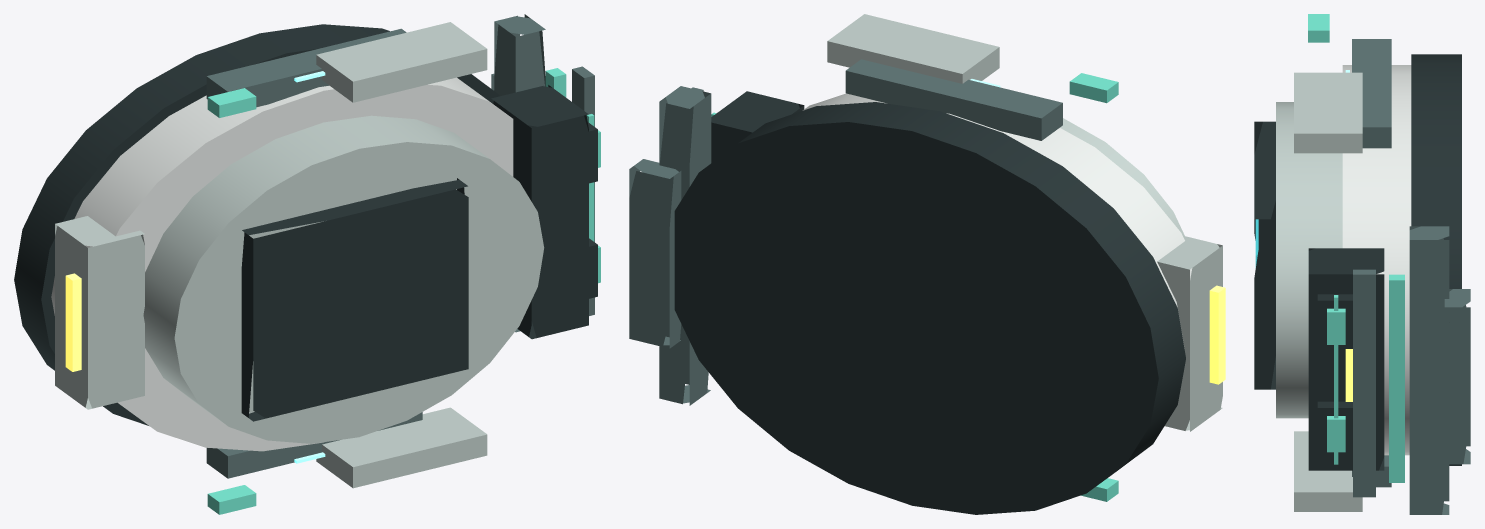
File: chassis.glb
3 renders of one model, left to right at view 1: azimuth 30°, elevation 25°; view 2: azimuth 150°, elevation 25°; view 3: azimuth 270°, elevation 25°, orthographic. The views are drawn at different scales.
Parts seen in each view (by area): view 1: upper_hull, top_deck, lower_hull, lower_skirt, face_panel, rear_service, shoulder_left, shoulder_right, side_rail_left, front_bumper, side_rail_right, rear_status (+3 smaller); view 2: lower_skirt, front_chin, side_rail_left, rear_service, shoulder_left, front_bumper, lower_hull, face_panel, rear_status, upper_hull, service_latch_left; view 3: upper_hull, lower_hull, front_bumper, lower_skirt, face_panel, top_deck, shoulder_left, ro1_front_skid, front_chin, side_rail_left, front_accent, shoulder_right (+8 smaller).
Part boxes in pixels (x1,y1,x2,y2): upper_hull: (143, 115, 544, 443); top_deck: (241, 178, 468, 421); lower_hull: (51, 77, 513, 451); lower_skirt: (14, 24, 499, 425); face_panel: (491, 85, 588, 339); rear_service: (55, 216, 144, 409); shoulder_left: (316, 22, 487, 102); shoulder_right: (316, 407, 487, 488); side_rail_left: (206, 28, 406, 107); front_bumper: (494, 14, 545, 332); side_rail_right: (206, 412, 422, 478); rear_status: (65, 273, 81, 371); lower_skirt: (674, 102, 1185, 514); front_chin: (629, 159, 681, 348); side_rail_left: (845, 59, 1062, 140); rear_service: (1157, 235, 1222, 431); shoulder_left: (827, 14, 999, 83); front_bumper: (659, 86, 711, 405); lower_hull: (802, 93, 1192, 348); face_panel: (711, 91, 804, 162); rear_status: (1209, 285, 1225, 384); upper_hull: (1060, 118, 1184, 235); service_latch_left: (1069, 73, 1118, 103); upper_hull: (1276, 102, 1342, 418); lower_hull: (1342, 65, 1411, 455); front_bumper: (1409, 226, 1449, 514); lower_skirt: (1411, 54, 1461, 465); face_panel: (1308, 248, 1384, 470); top_deck: (1254, 121, 1275, 389); shoulder_left: (1294, 72, 1362, 153); ro1_front_skid: (1353, 269, 1375, 497); front_chin: (1444, 289, 1470, 464); side_rail_left: (1352, 39, 1391, 148); front_accent: (1389, 274, 1404, 482); shoulder_right: (1294, 431, 1362, 511).
Size of the model in its own units: 0.783 by 0.582 by 0.2995.
